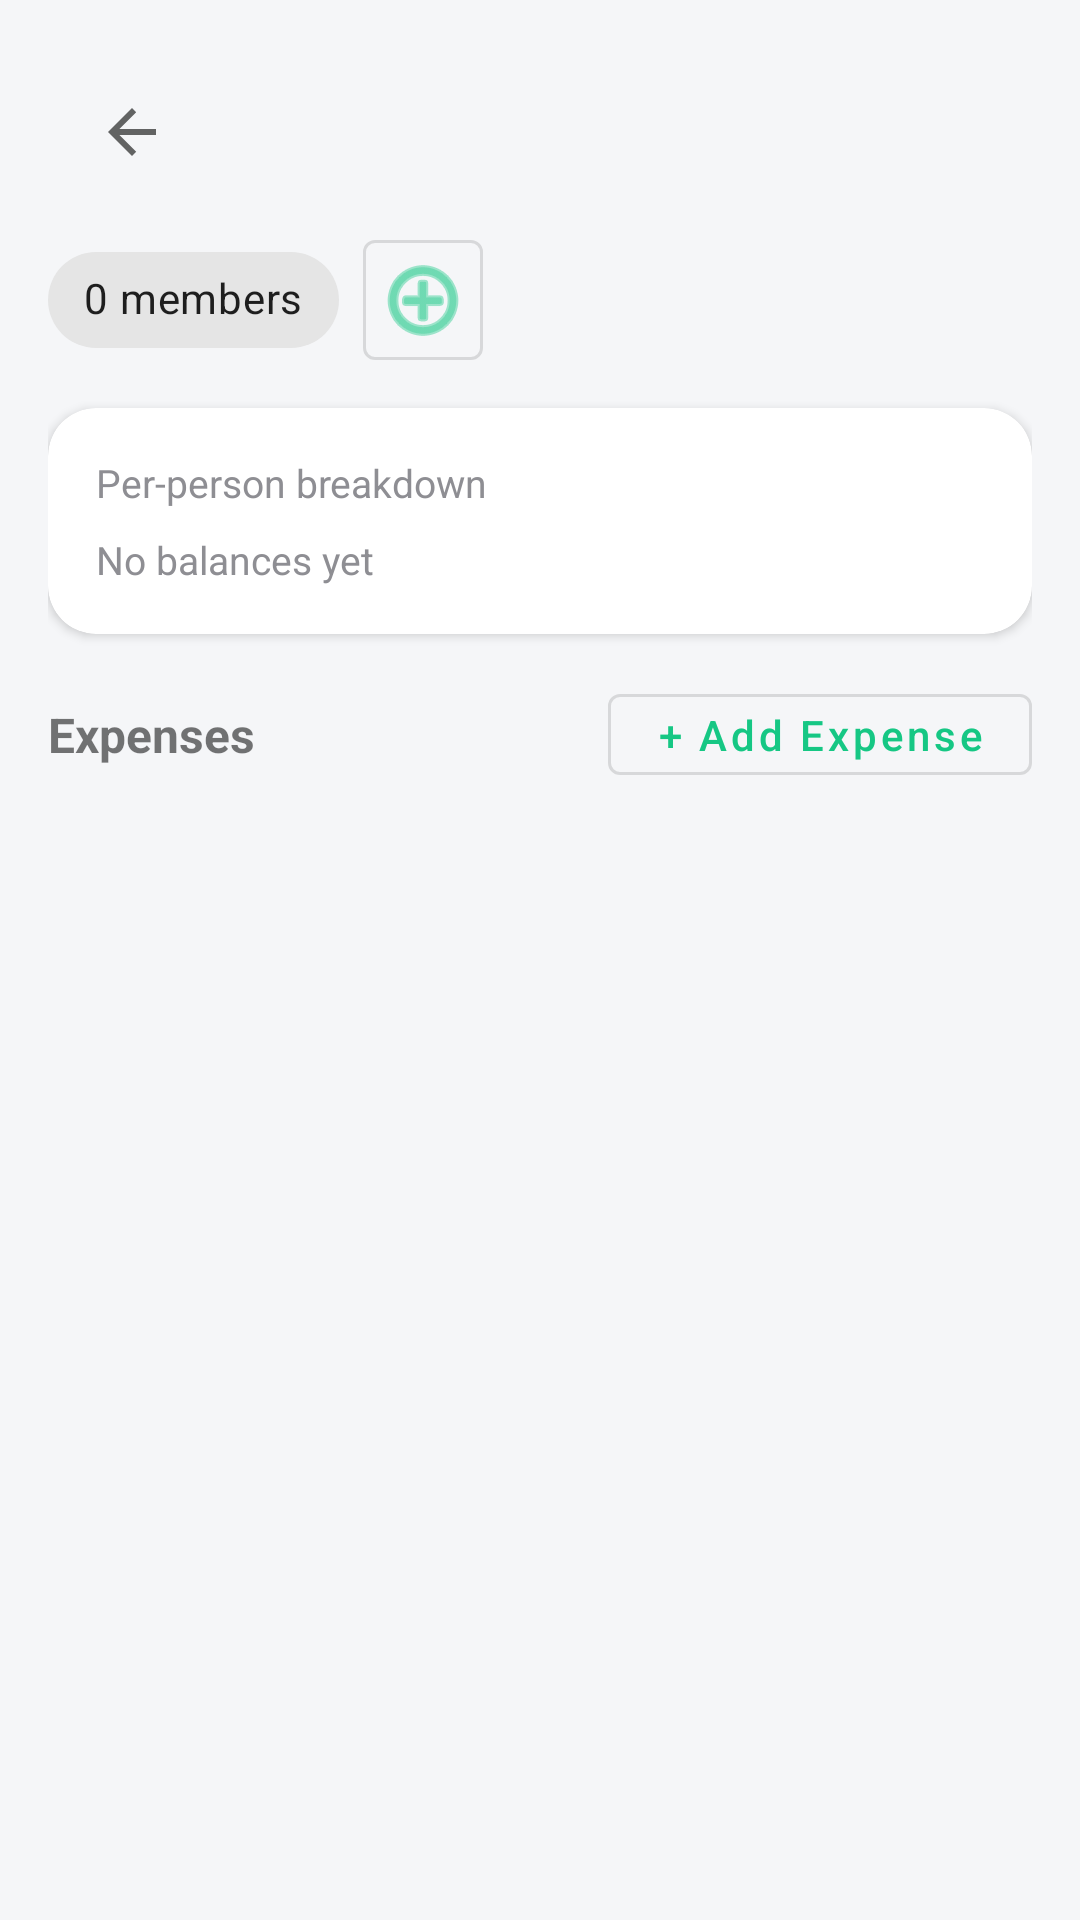

Screen size 1080x1920. Icon name, then its box in pixels as {"left": x1, "top": y1, "right": x2, "bottom": y2}:
Add members: {"left": 363, "top": 240, "right": 483, "bottom": 360}
